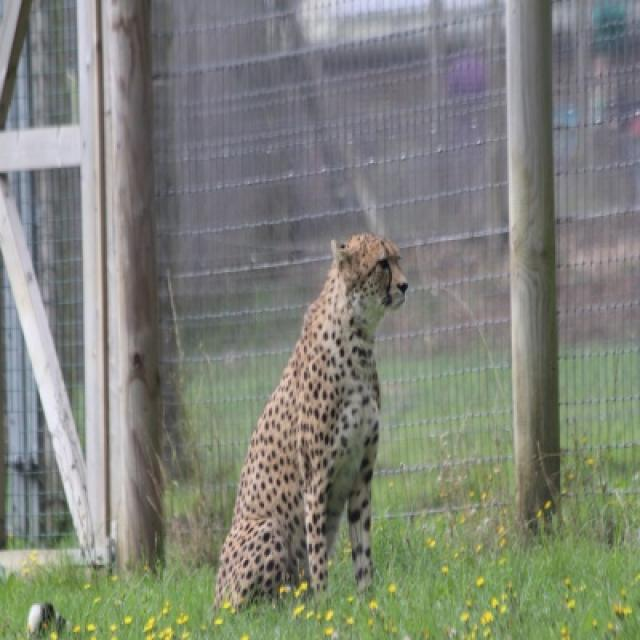Cheetah: (213, 229, 412, 615)
